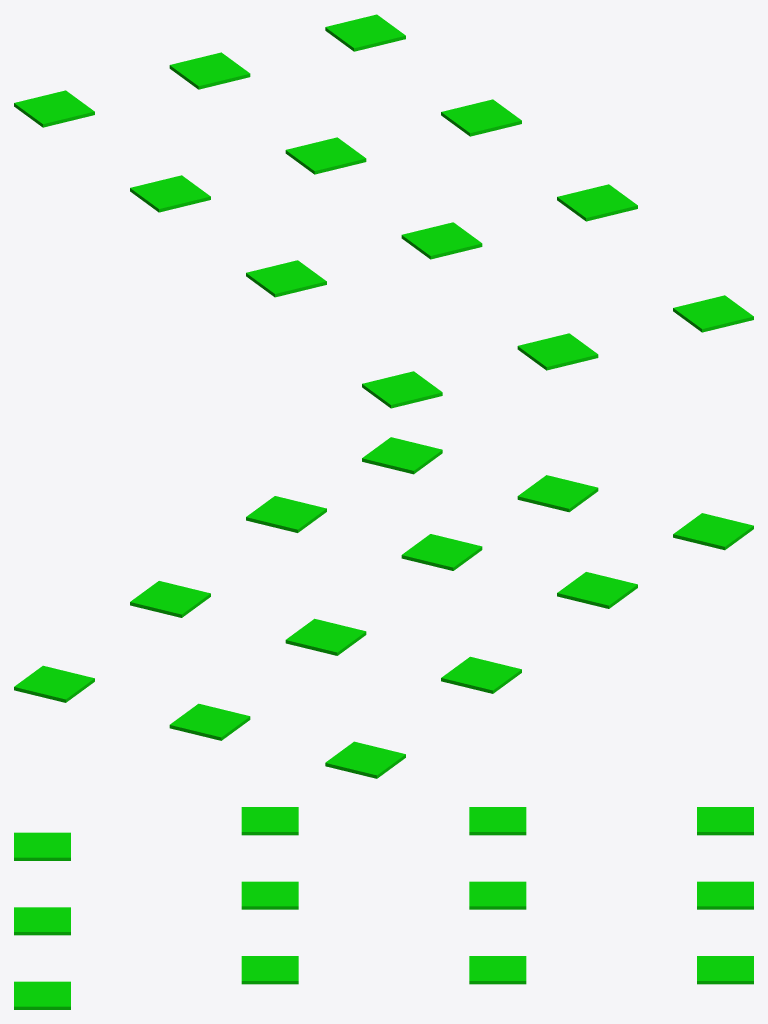
File: LucesNuevas.fbx
3 views of the same model, one above another, from view 1: azimuth 30°, elevation 25°; view 2: azimuth 150°, elevation 25°; view 3: azimuth 270°, elevation 25° (orthographic).
Parts seen in each view (by area): view 1: polySurface20; view 2: polySurface20; view 3: polySurface20.
Part boxes in pixels (bbox=[...]): polySurface20: bbox=[14, 14, 753, 408]; polySurface20: bbox=[14, 437, 753, 778]; polySurface20: bbox=[14, 807, 753, 1009].
Bounding box in the file's own units: 4.36 × 0.3398 × 7.84.
